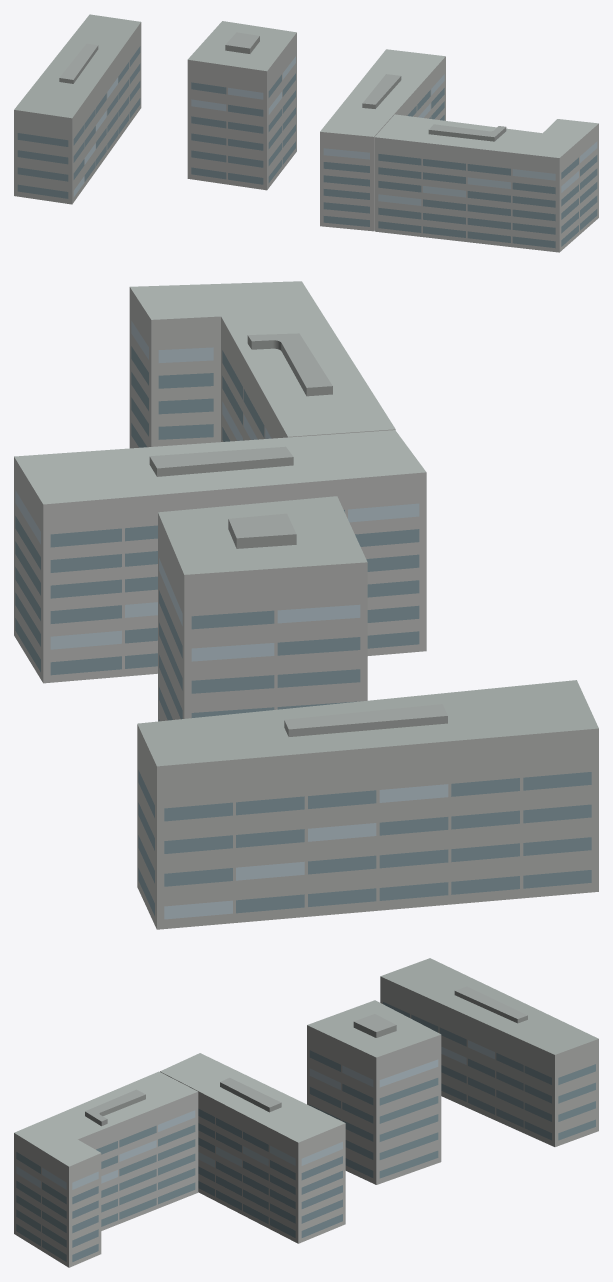
Rendered from apt-a41279901.glb.
3 views of the same model, one above another, from view 1: azimuth 30°, elevation 25°; view 2: azimuth 150°, elevation 25°; view 3: azimuth 270°, elevation 25° (orthographic). The views are drawn at different scales.
Parts seen in each view (by area): view 1: apt-a41279901; view 2: apt-a41279901; view 3: apt-a41279901.
Boxes of the visible parts, x1,y1,x2,y2 form: apt-a41279901: (14, 14, 598, 252); apt-a41279901: (14, 281, 598, 929); apt-a41279901: (14, 958, 598, 1267).
Size of the model in its own units: 101 by 29 by 115.
